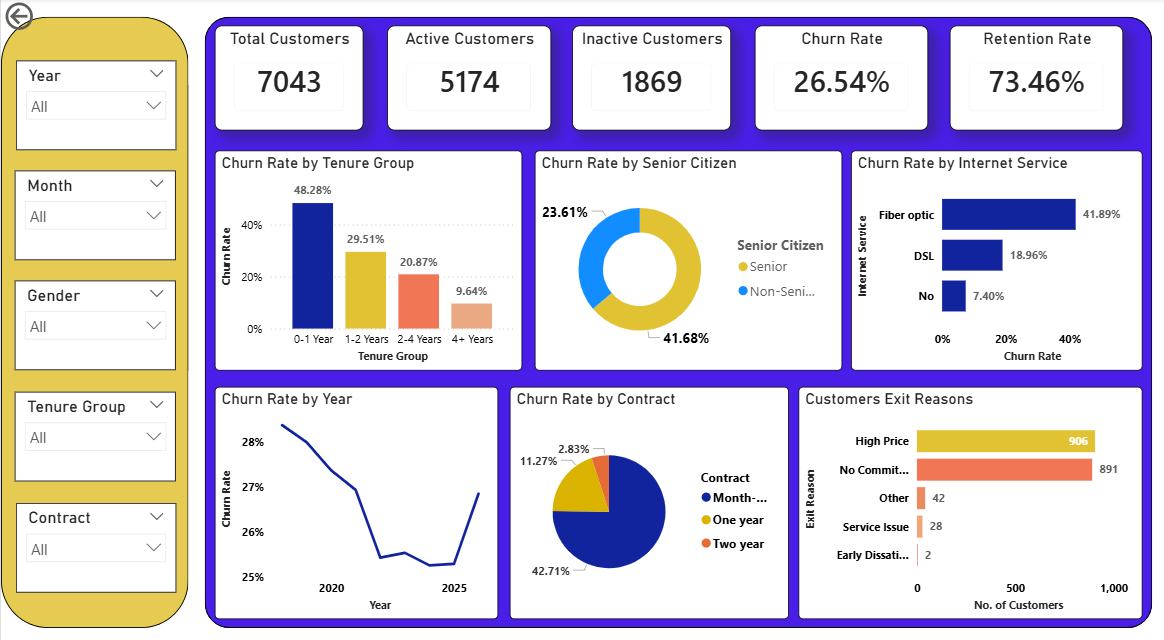

The dashboard page shown, as its layout file describes it:
{"tool":"powerbi","page":{"name":"Page 1","canvas":[1280,720],"ordinal":0},"visuals":[{"type":"shape","box":[0,20.6,205.8,671],"z":0},{"type":"shape","box":[223.7,20.6,1040.1,671],"z":1000},{"type":"slicer","fields":{"Values":["fact_churn.Year"]},"box":[16.5,68.6,175.6,98.8],"z":2000},{"type":"cardVisual","title":"Total Customers","fields":{"Data":["fact_churn.Total Customers"]},"box":[234.6,30.2,163.3,115.3],"z":3000},{"type":"slicer","fields":{"Values":["fact_churn.Month"]},"box":[15.1,189.4,177,98.8],"z":4000},{"type":"actionButton","box":[0,0,100,40],"z":5000},{"type":"slicer","fields":{"Values":["dim_customer.gender"]},"box":[15.1,310.1,177,98.8],"z":6000},{"type":"slicer","fields":{"Values":["fact_churn.TenureGroup"]},"box":[15.1,432.2,177,98.8],"z":7000},{"type":"slicer","fields":{"Values":["dim_payment.Contract"]},"box":[16.5,554.4,175.6,98.8],"z":8000},{"type":"cardVisual","title":"Active Customers","fields":{"Data":["fact_churn.Active Customers"]},"box":[424,30.2,179.8,115.3],"z":9000},{"type":"cardVisual","title":"Inactive Customers","fields":{"Data":["fact_churn.Inactive Customers"]},"box":[627.1,30.2,174.3,115.3],"z":10000},{"type":"cardVisual","title":"Churn Rate","fields":{"Data":["fact_churn.Churn Rate"]},"box":[827.4,30.2,190.7,115.3],"z":11000},{"type":"cardVisual","title":"Retention Rate","fields":{"Data":["fact_churn.Retention Rate"]},"box":[1041.5,30.2,190.7,115.3],"z":12000},{"type":"columnChart","title":"Churn Rate by Tenure Group","fields":{"Category":["fact_churn.TenureGroup"],"Y":["fact_churn.Churn Rate"]},"box":[234.6,167.4,337.6,241.5],"z":13000},{"type":"donutChart","fields":{"Category":["dim_customer.SeniorCitizenLabel"],"Y":["fact_churn.Churn Rate"]},"box":[585.9,167.4,337.6,241.5],"z":14000},{"type":"lineChart","fields":{"Category":["fact_churn.Year"],"Y":["fact_churn.Churn Rate"]},"box":[234.6,426.8,311.5,255.2],"z":15000},{"type":"clusteredBarChart","title":"Churn Rate by Internet Service","fields":{"Category":["dim_services.InternetService"],"Y":["fact_churn.Churn Rate"]},"box":[933.1,167.4,319.7,241.5],"z":16000},{"type":"clusteredBarChart","title":"Customers Exit Reasons","fields":{"Category":["fact_churn.ExitReason"],"Y":["CountNonNull(fact_churn.customerID)"]},"box":[875.5,426.8,377.4,255.2],"z":17000},{"type":"pieChart","fields":{"Y":["fact_churn.Churn Rate"],"Category":["dim_payment.Contract"]},"box":[558.5,426.8,306,255.2],"z":17001}]}

Visuals, with their boxes in screenshot pixels (x1, y1, x2, y2), scaled from the page's 1280x720 canvas onto the 1164x640 screenshot:
shape: BBox(0, 18, 187, 615)
shape: BBox(203, 18, 1149, 615)
slicer - fact_churn.Year: BBox(15, 61, 175, 149)
"Total Customers" cardVisual: BBox(213, 27, 362, 129)
slicer - fact_churn.Month: BBox(14, 168, 175, 256)
actionButton: BBox(0, 0, 91, 36)
slicer - dim_customer.gender: BBox(14, 276, 175, 363)
slicer - fact_churn.TenureGroup: BBox(14, 384, 175, 472)
slicer - dim_payment.Contract: BBox(15, 493, 175, 581)
"Active Customers" cardVisual: BBox(386, 27, 549, 129)
"Inactive Customers" cardVisual: BBox(570, 27, 729, 129)
"Churn Rate" cardVisual: BBox(752, 27, 926, 129)
"Retention Rate" cardVisual: BBox(947, 27, 1121, 129)
"Churn Rate by Tenure Group" columnChart: BBox(213, 149, 520, 363)
donutChart - dim_customer.SeniorCitizenLabel x fact_churn.Churn Rate: BBox(533, 149, 840, 363)
lineChart - fact_churn.Year x fact_churn.Churn Rate: BBox(213, 379, 497, 606)
"Churn Rate by Internet Service" clusteredBarChart: BBox(849, 149, 1139, 363)
"Customers Exit Reasons" clusteredBarChart: BBox(796, 379, 1139, 606)
pieChart - fact_churn.Churn Rate x dim_payment.Contract: BBox(508, 379, 786, 606)
